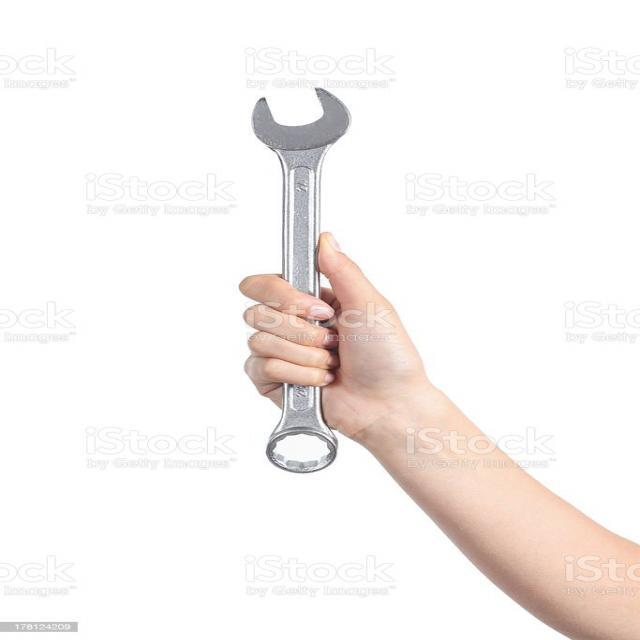wrench: (242, 82, 356, 478)
